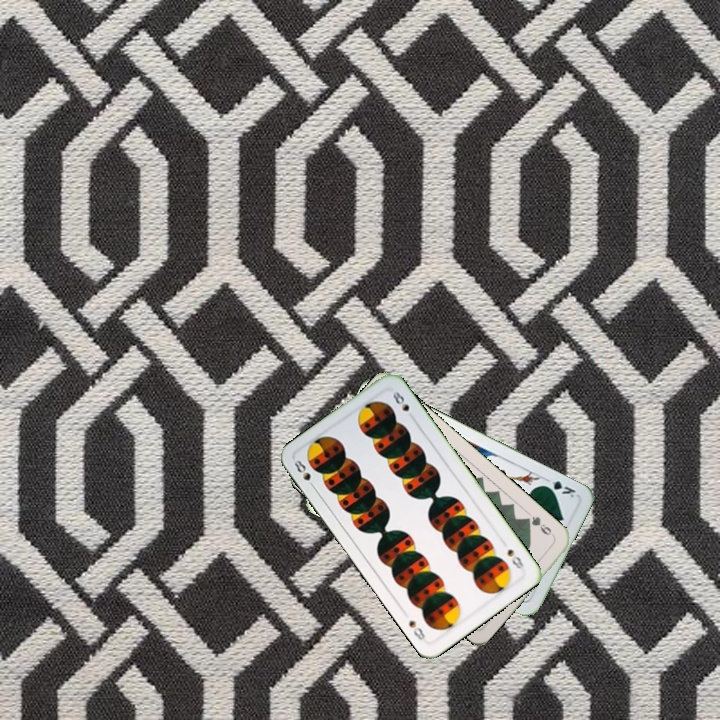G9: (521, 512, 558, 541)
GK: (539, 476, 578, 500)
S8: (290, 456, 319, 492), (503, 545, 526, 571)
